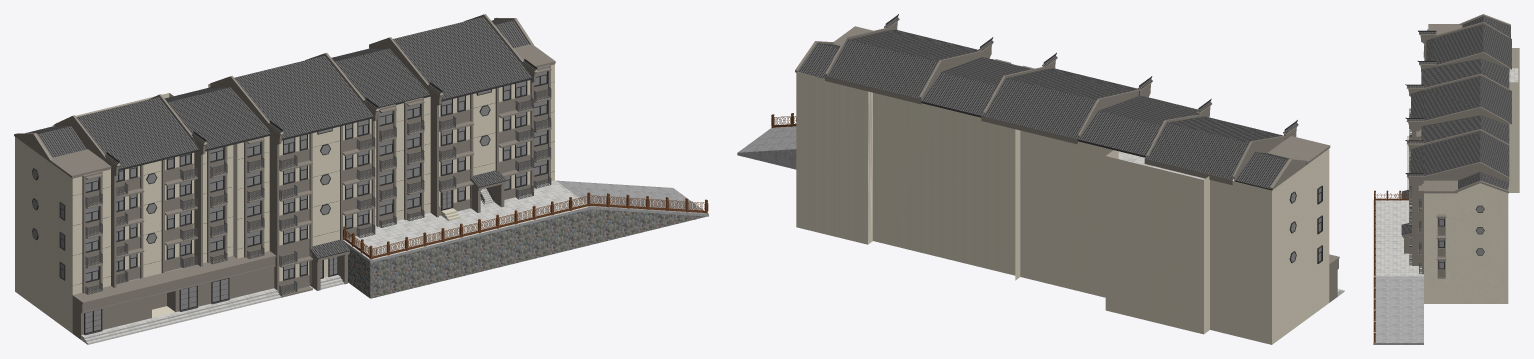
The model's file is gzl_227.FBX.
The picture shows the model from 3 angles, left to right: view 1: azimuth 30°, elevation 25°; view 2: azimuth 150°, elevation 25°; view 3: azimuth 270°, elevation 25°; orthographic projection. The views are drawn at different scales.
Visible parts, largest first — view 1: Group001, Group348_002, Group348_001, Group348_008, gzl_227, boli_02, Group348_009, Group348_014, Group348_007, Rectangle323, Rectangle322, boli_01 (+1 smaller); view 2: Group348_002, Group001, Group348_001, Rectangle323, Group348_008; view 3: Group001, Line002, Group348_001, Rectangle323, Group348_014, Group348_002, gzl_227, Group348_007, boli_02, Group348_008, Group348_009, Group348_006 (+1 smaller).
Boxes of the visible parts, x1=… form: Group001: x1=25, y1=17, x2=590, y2=344; Group348_002: x1=15, y1=20, x2=553, y2=333; Group348_001: x1=14, y1=14, x2=555, y2=339; Group348_008: x1=48, y1=84, x2=548, y2=292; gzl_227: x1=82, y1=65, x2=551, y2=297; boli_02: x1=32, y1=71, x2=546, y2=281; Group348_009: x1=32, y1=71, x2=547, y2=334; Group348_014: x1=343, y1=180, x2=590, y2=260; Group348_007: x1=343, y1=192, x2=708, y2=259; Rectangle323: x1=556, y1=180, x2=703, y2=210; Rectangle322: x1=590, y1=209, x2=706, y2=244; boli_01: x1=85, y1=257, x2=337, y2=332; Group348_002: x1=795, y1=20, x2=1329, y2=344; Group001: x1=798, y1=17, x2=1344, y2=296; Group348_001: x1=795, y1=17, x2=1339, y2=302; Rectangle323: x1=737, y1=126, x2=796, y2=169; Group348_008: x1=1267, y1=136, x2=1330, y2=164; Group001: x1=1401, y1=16, x2=1511, y2=273; Line002: x1=1424, y1=193, x2=1508, y2=303; Group348_001: x1=1402, y1=14, x2=1510, y2=265; Rectangle323: x1=1376, y1=276, x2=1423, y2=344; Group348_014: x1=1373, y1=68, x2=1518, y2=276; Group348_002: x1=1403, y1=34, x2=1519, y2=238; gzl_227: x1=1409, y1=29, x2=1446, y2=278; Group348_007: x1=1374, y1=190, x2=1408, y2=342; boli_02: x1=1439, y1=206, x2=1483, y2=268; Group348_008: x1=1428, y1=24, x2=1462, y2=34; Group348_009: x1=1438, y1=205, x2=1484, y2=269; Group348_006: x1=1405, y1=30, x2=1436, y2=174.
Size of the model in its own units: 60717 by 17951 by 18061.
